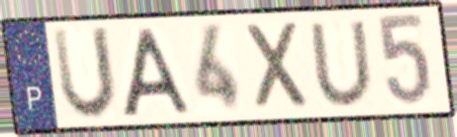4: (190, 18, 245, 118)
5: (373, 10, 435, 111)
A: (119, 24, 194, 120)
U: (49, 24, 120, 124), (305, 17, 378, 109)
X: (242, 19, 313, 115)
